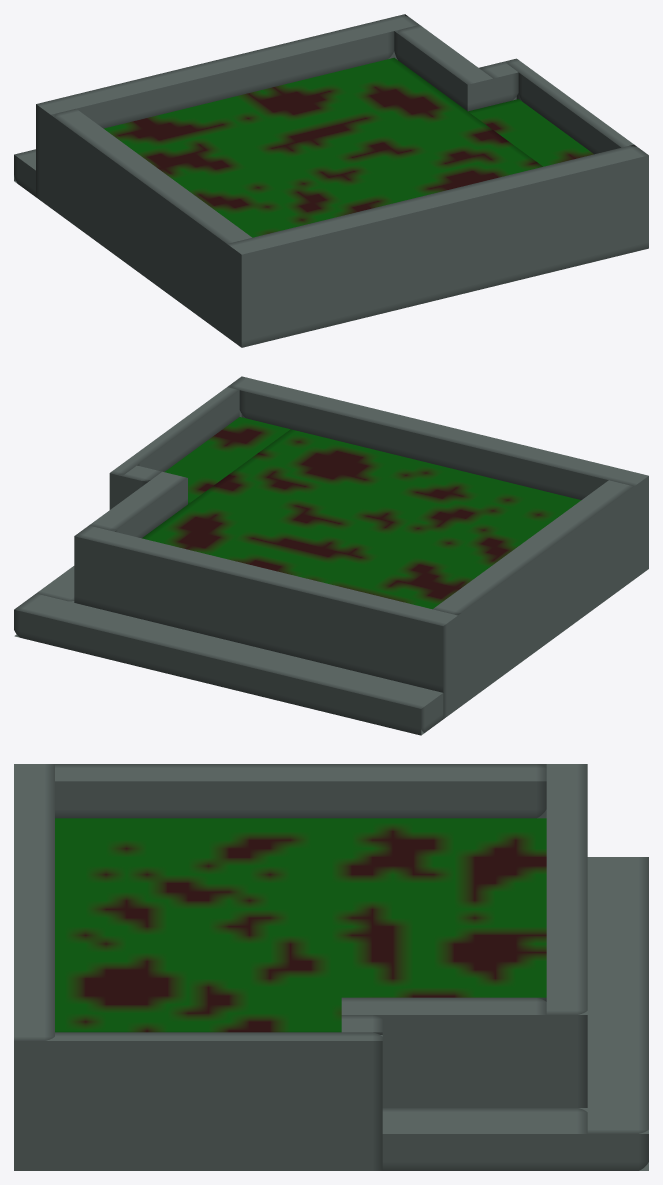
The model's file is donicza_01.dae.
3 renders of one model, top to bottom at view 1: azimuth 30°, elevation 25°; view 2: azimuth 150°, elevation 25°; view 3: azimuth 270°, elevation 25°, orthographic. The views are drawn at different scales.
Visible parts, largest first — view 1: Content; view 2: Content; view 3: Content.
Boxes of the visible parts, box(x1,y1,x2,y2) form: Content: box(14, 14, 648, 347); Content: box(14, 376, 648, 735); Content: box(14, 764, 648, 1170).
Bounding box in the file's own units: 32 × 7 × 31.
1 material, 1 textured.
